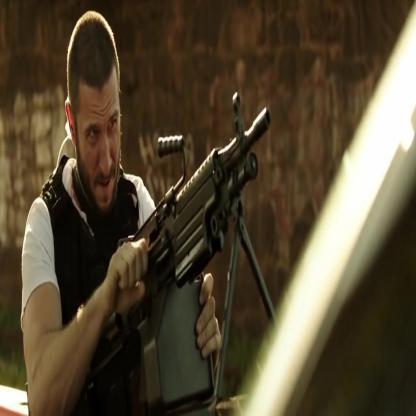Gun: (83, 27, 289, 411)
